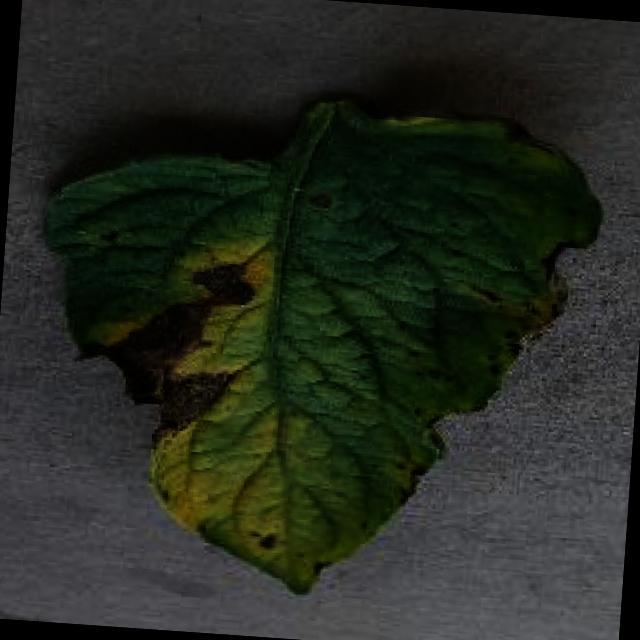Tomato Early blight leaf: (14, 72, 602, 613)
